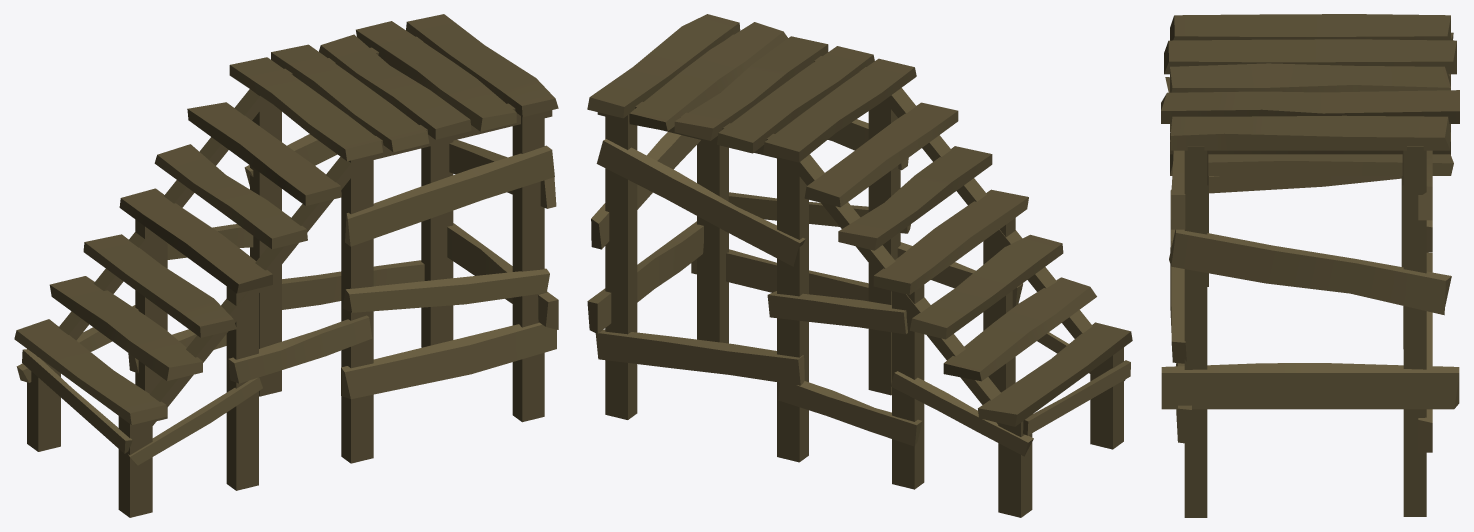
File: Stairs_Support.fbx
The picture shows the model from 3 angles, left to right: view 1: azimuth 30°, elevation 25°; view 2: azimuth 150°, elevation 25°; view 3: azimuth 270°, elevation 25°; orthographic projection. The views are drawn at different scales.
Visible parts, largest first — view 1: polySurface50; view 2: polySurface50; view 3: polySurface50.
Boxes of the visible parts, x1,y1,x2,y2 form: polySurface50: (14,14,558,517); polySurface50: (587,14,1132,517); polySurface50: (1161,14,1459,517).
Bounding box in the file's own units: 25.85 × 18.37 × 12.79.
